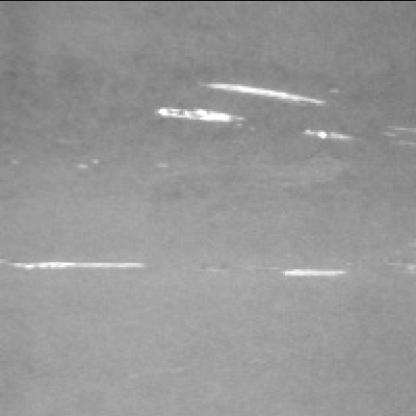scratches: (195, 73, 344, 137), (6, 245, 154, 274), (154, 93, 258, 130), (276, 258, 360, 281)
